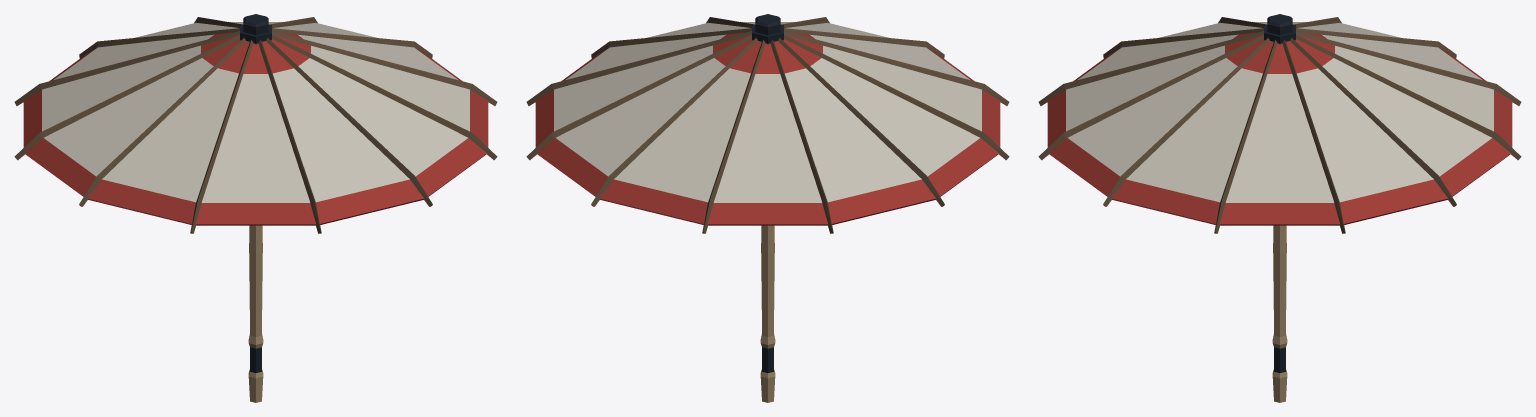
The model's file is bangasa-paper-umbrella-402f7b.glb.
3 renders of one model, left to right at view 1: azimuth 30°, elevation 25°; view 2: azimuth 150°, elevation 25°; view 3: azimuth 270°, elevation 25°, orthographic.
Visible parts, largest first — view 1: bangasa-mesh; view 2: bangasa-mesh; view 3: bangasa-mesh.
Boxes of the visible parts, <box> form: bangasa-mesh: <box>14,14,497,402</box>; bangasa-mesh: <box>526,14,1009,402</box>; bangasa-mesh: <box>1038,14,1521,402</box>.
Bounding box in the file's own units: 1 × 0.87 × 1.
